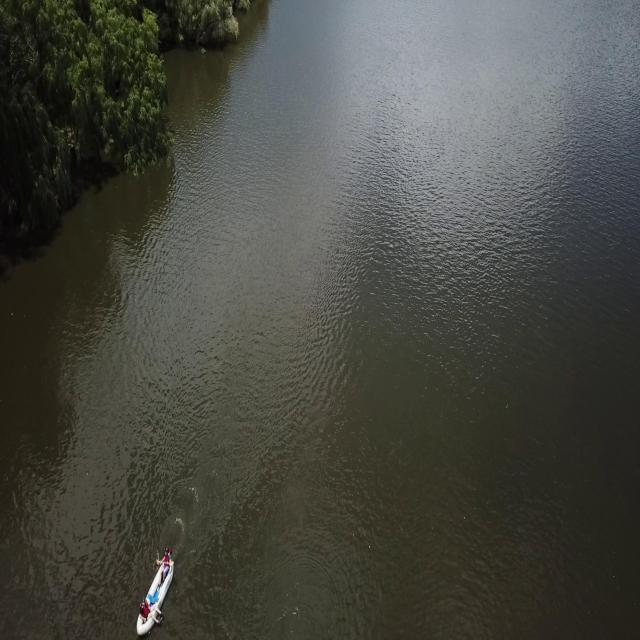kayak: (136, 546, 180, 635)
